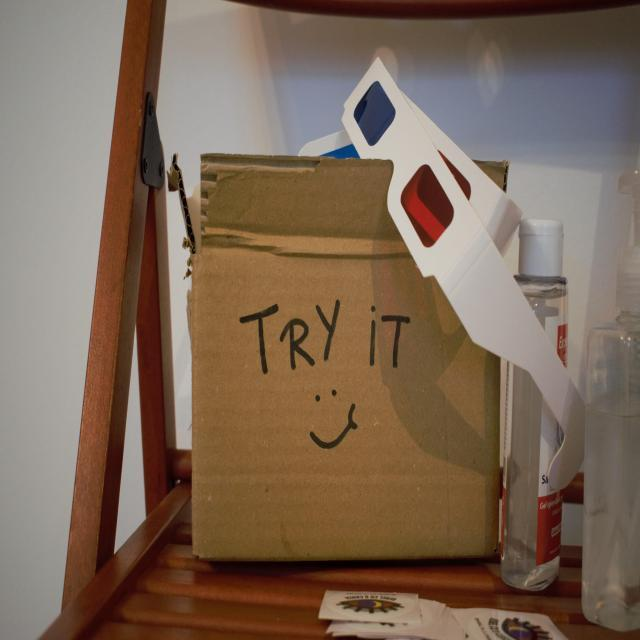box: (177, 153, 510, 564)
